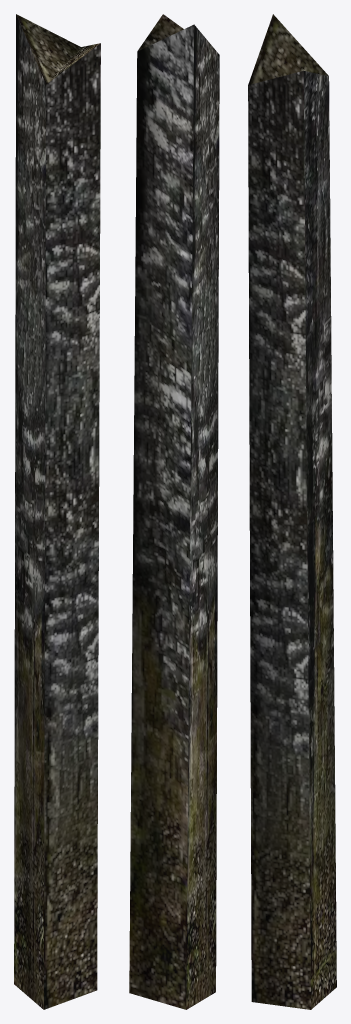
File: OW_MISC_BURNED_POLE_01.glb
3 views of the same model, side by side, from view 1: azimuth 30°, elevation 25°; view 2: azimuth 150°, elevation 25°; view 3: azimuth 330°, elevation 25° (orthographic).
Parts seen in each view (by area): view 1: Mesh; view 2: Mesh; view 3: Mesh.
Boxes of the visible parts, left/top/right/bottom form: Mesh: left=14, top=14, right=100, bottom=1009; Mesh: left=129, top=14, right=219, bottom=1009; Mesh: left=248, top=14, right=336, bottom=1009.
Bounding box in the file's own units: 0.2881 × 4.43 × 0.2673.
Materials: 1 (1 with a texture image).
